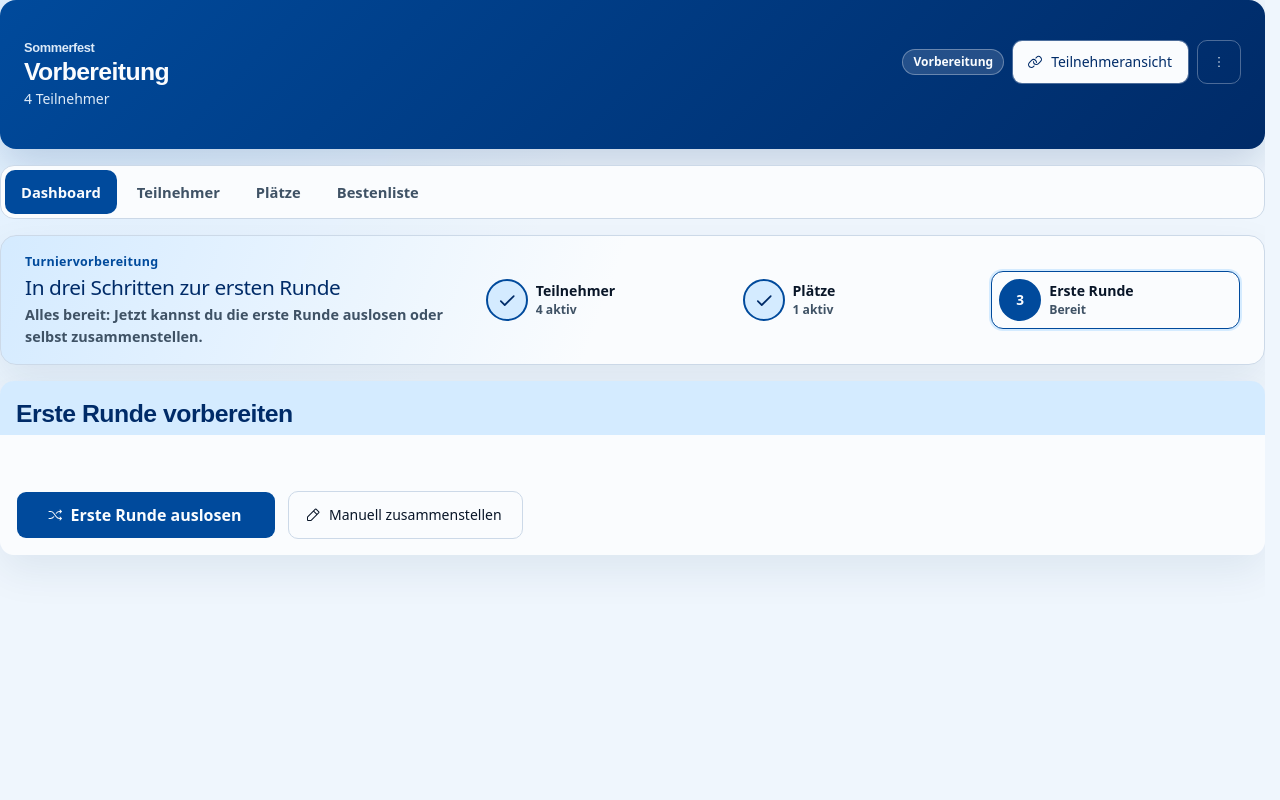
Test: draw feedback › publishes immediately with reduced motion
This screenshot has width=1280, height=800.
Click the button "Erste Runde auslosen".
click(146, 515)  # box [16, 491, 276, 539]
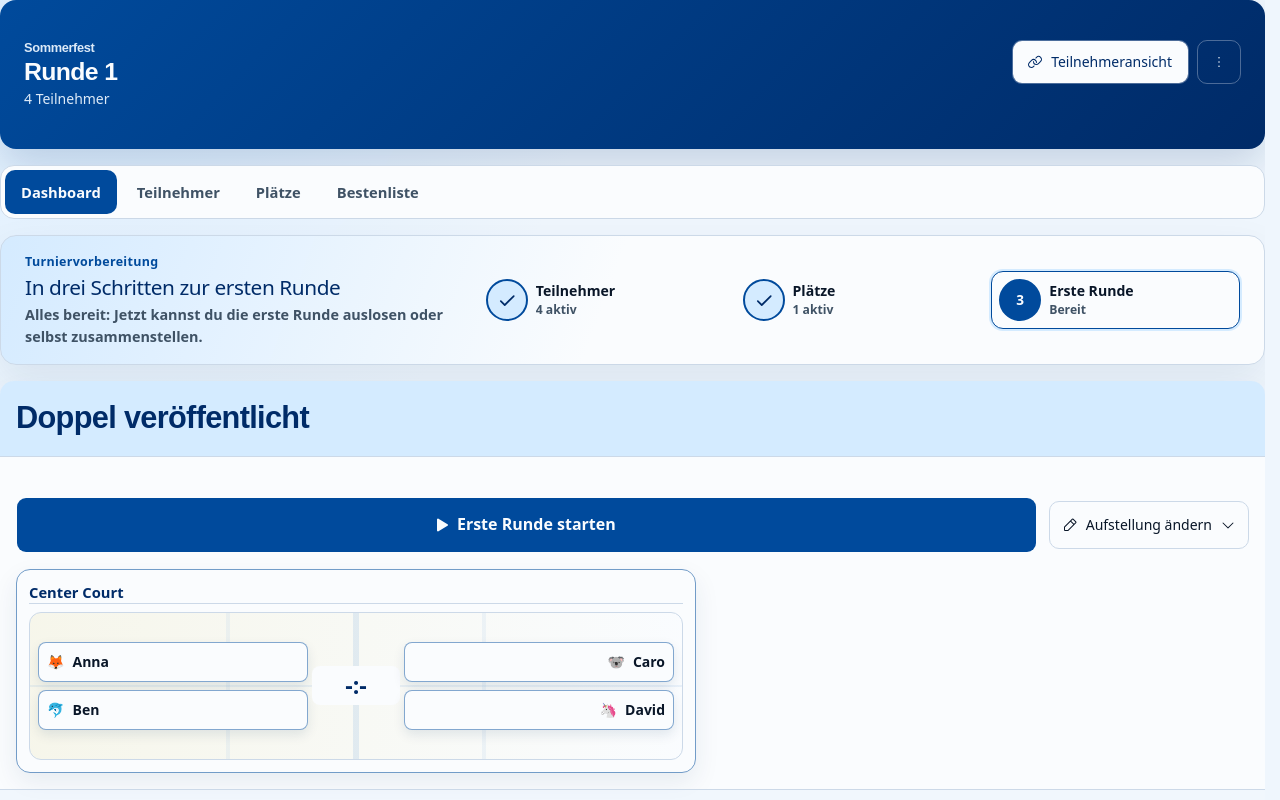
Expected: the button "Erste Runde starten" is shown, [16, 496, 1037, 552]
